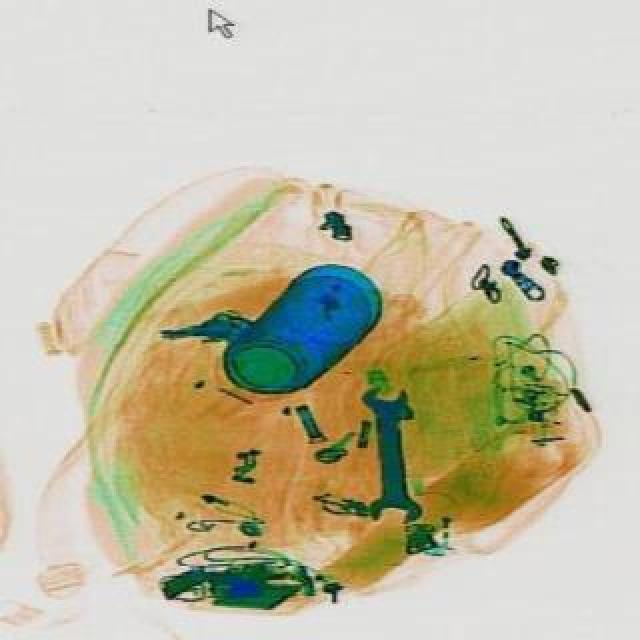scissors: (356, 384, 416, 524)
